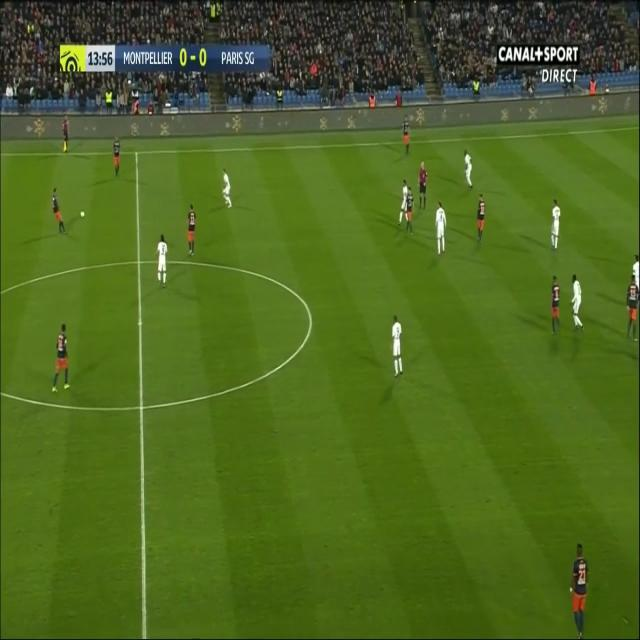Ball: (78, 206, 87, 220)
Player: (569, 542, 590, 639), (49, 321, 70, 396), (389, 314, 406, 382), (569, 272, 586, 339), (624, 276, 640, 345), (548, 270, 564, 338), (50, 185, 69, 241), (154, 232, 171, 288), (433, 201, 448, 260), (185, 202, 199, 259), (549, 196, 563, 252), (220, 164, 234, 209), (462, 147, 476, 192), (476, 192, 487, 246), (398, 177, 409, 226), (401, 114, 413, 158), (111, 134, 122, 180), (405, 182, 415, 232), (631, 248, 640, 294)
Referee: (417, 158, 430, 212), (61, 115, 69, 155)
